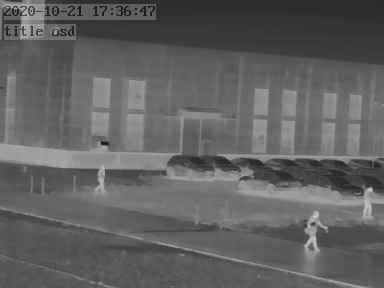person: (303, 213, 321, 252), (360, 186, 374, 220), (94, 164, 107, 193)
vehicle: (299, 172, 370, 199), (238, 169, 302, 191), (165, 153, 211, 178), (351, 173, 384, 199), (205, 154, 242, 176), (233, 155, 268, 171), (263, 155, 296, 169), (348, 156, 379, 170), (295, 156, 324, 169), (319, 156, 348, 169)
